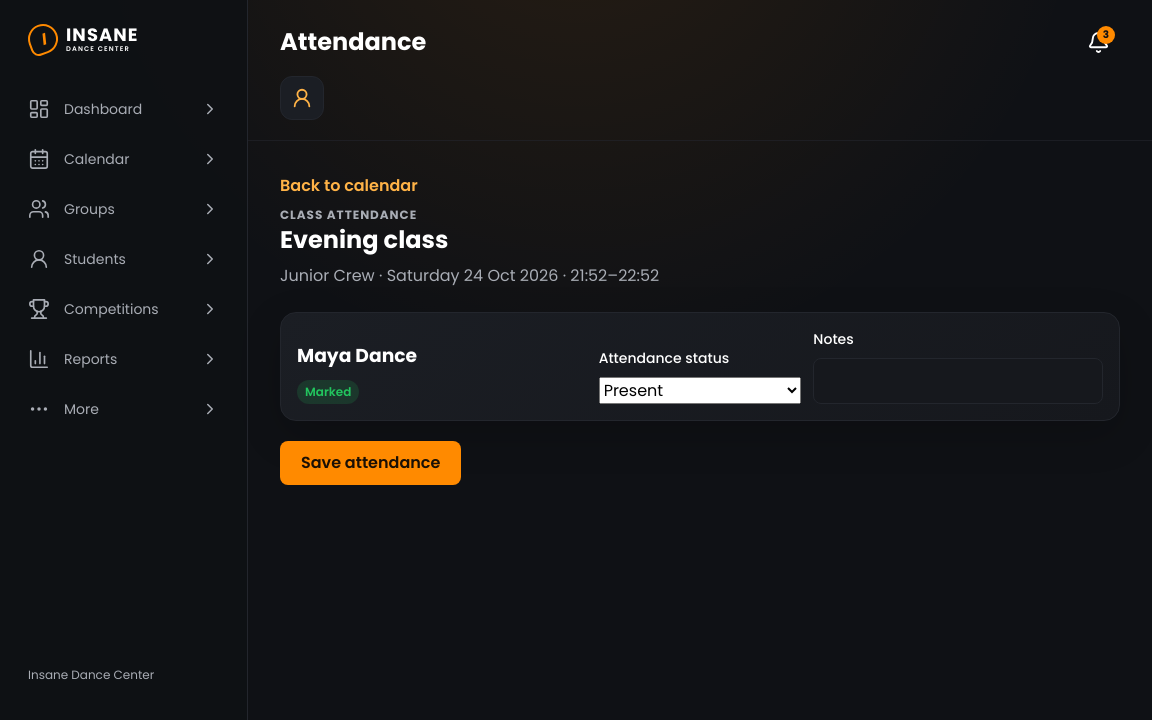
it: AttendancePage › shows cleared attendance as unmarked after records are refetched
Step 1. Select "Not marked" in the dropdown labelled "Attendance status" → (700, 390), box [599,377,801,404]
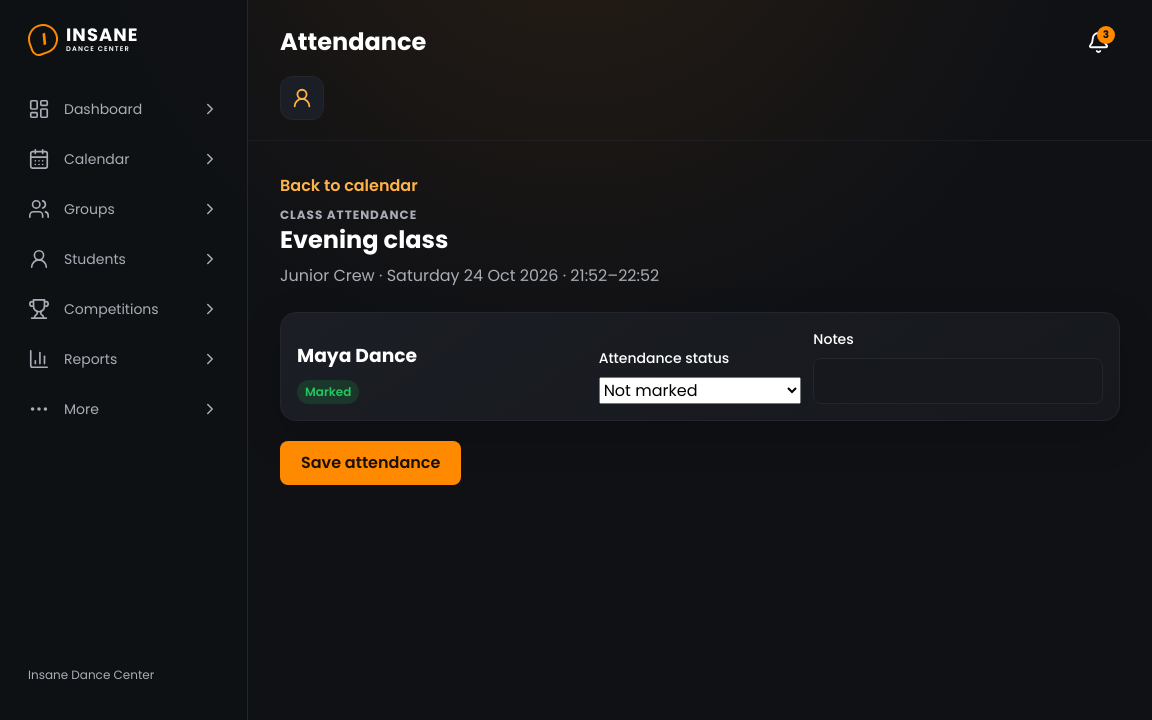
Step 2. Click the button "Save attendance" → (371, 463), box [280,441,461,485]
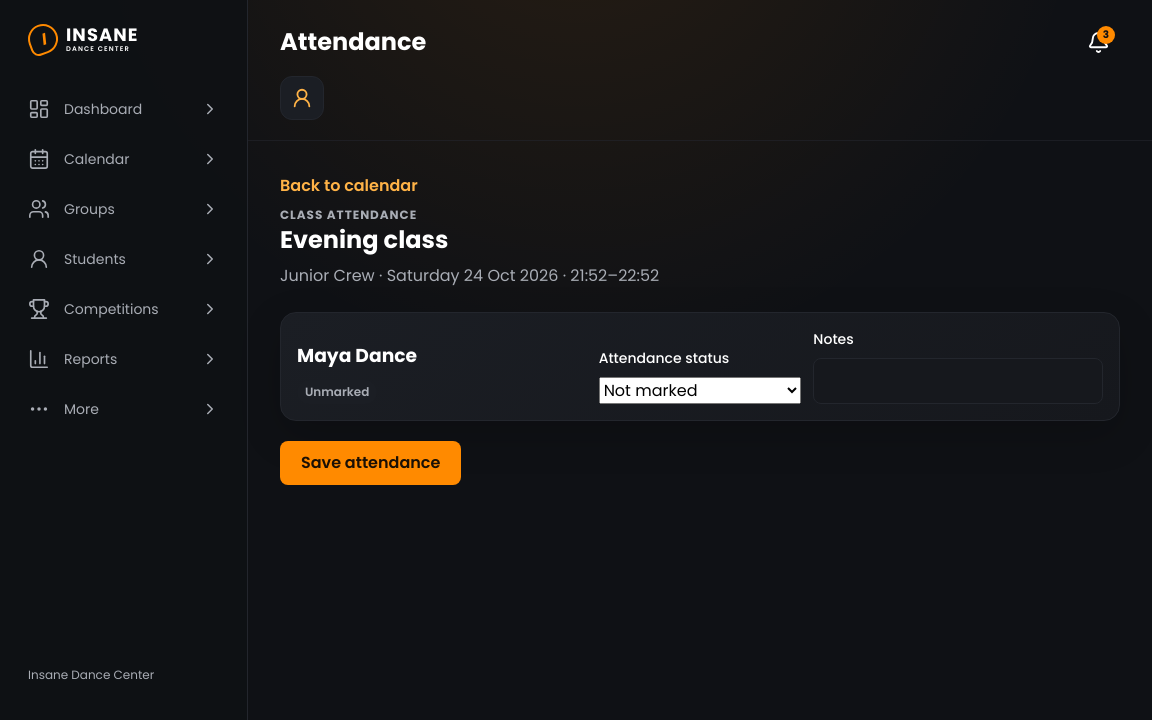
Check: the text "Unmarked" is shown, box [297,380,377,404]
